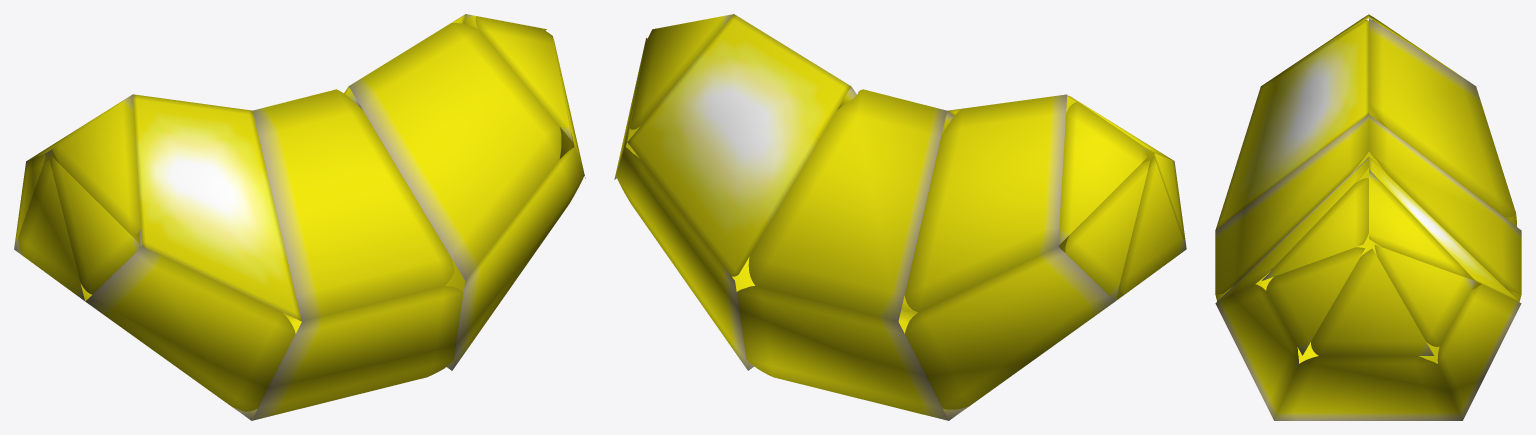
3 renders of one model, left to right at view 1: azimuth 30°, elevation 25°; view 2: azimuth 150°, elevation 25°; view 3: azimuth 270°, elevation 25°, orthographic. The views are drawn at different scales.
Visible parts, largest first — view 1: T1L4M004_13; view 2: T1L4M004_13; view 3: T1L4M004_13.
Part boxes in pixels (left/top/right/bottom): T1L4M004_13: left=14, top=14, right=585, bottom=420; T1L4M004_13: left=614, top=14, right=1186, bottom=420; T1L4M004_13: left=1215, top=14, right=1521, bottom=420.
Size of the model in its own units: 0.5547 by 0.3213 by 0.3154.
